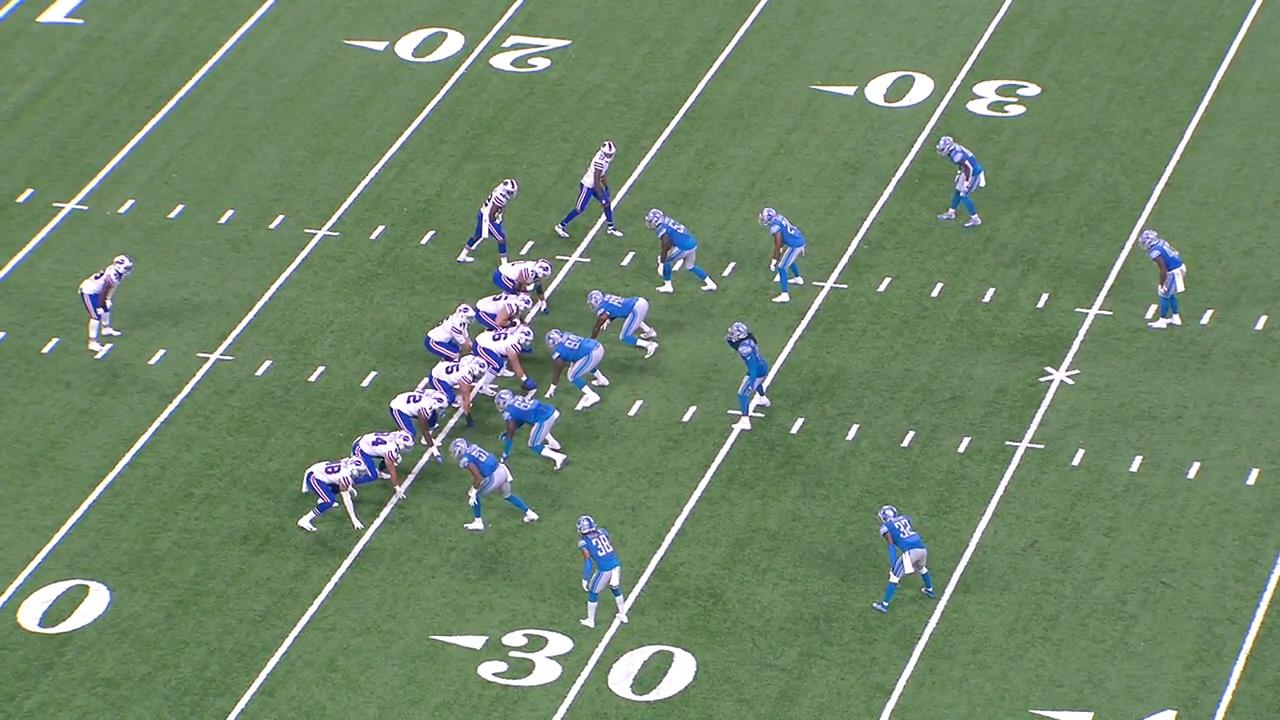defense: (449, 434, 542, 535), (868, 497, 943, 614), (640, 205, 718, 294), (572, 512, 631, 629), (495, 389, 565, 479), (1139, 224, 1189, 333), (726, 318, 773, 433), (933, 131, 986, 232), (586, 287, 660, 358), (757, 206, 810, 304), (548, 330, 608, 409)
oline: (433, 352, 490, 430), (394, 392, 452, 461), (478, 322, 537, 385), (497, 257, 551, 320), (474, 291, 539, 332)
qb: (426, 303, 478, 358)
skill: (552, 134, 622, 245), (295, 453, 368, 532), (76, 252, 133, 352), (461, 176, 519, 264), (355, 431, 415, 496)
